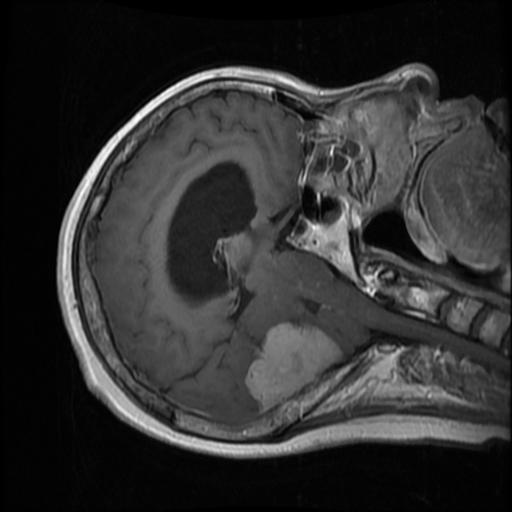meningioma: (243, 320, 348, 413)
